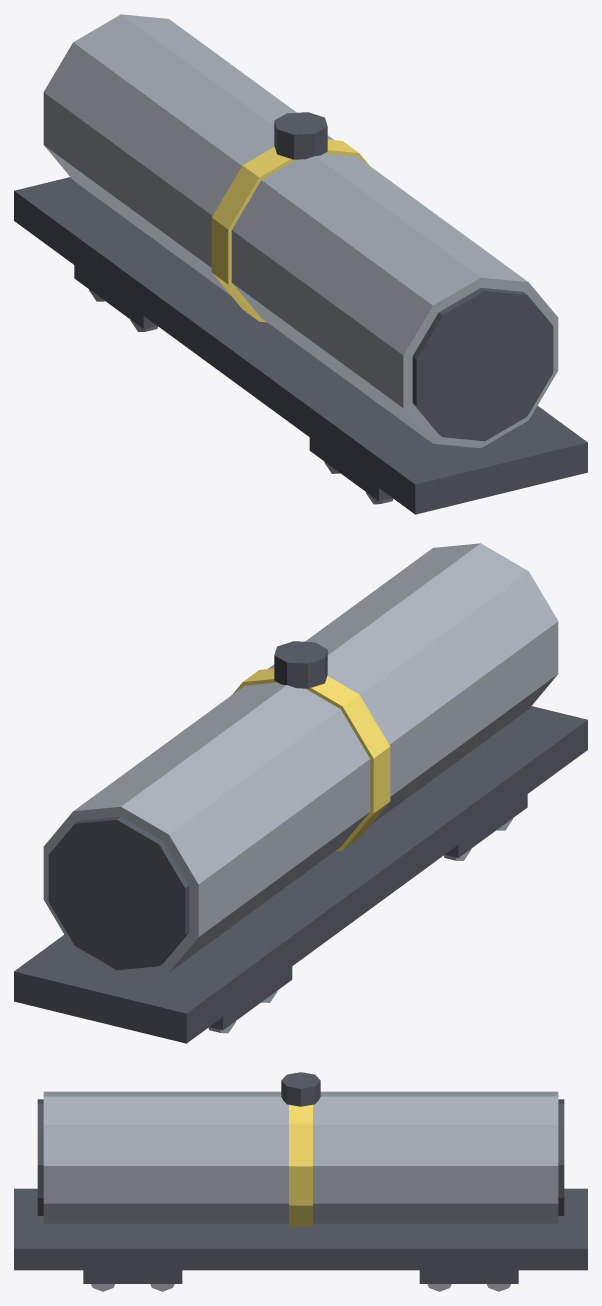
The model's file is vagao_tanque.glb.
The picture shows the model from 3 angles, top to bottom: view 1: azimuth 30°, elevation 25°; view 2: azimuth 150°, elevation 25°; view 3: azimuth 270°, elevation 25°; orthographic projection. The views are drawn at different scales.
Parts seen in each view (by area): view 1: vagao_tanque_corpo, vagao_tanque_truque0, vagao_tanque_truque1; view 2: vagao_tanque_corpo, vagao_tanque_truque1, vagao_tanque_truque0; view 3: vagao_tanque_corpo, vagao_tanque_truque0, vagao_tanque_truque1.
Part boxes in pixels (x1,y1,x2,y2): vagao_tanque_corpo: (14,14,587,514); vagao_tanque_truque0: (309,437,393,504); vagao_tanque_truque1: (74,265,157,331); vagao_tanque_corpo: (14,543,587,1043); vagao_tanque_truque1: (208,966,292,1033); vagao_tanque_truque0: (444,794,527,860); vagao_tanque_corpo: (14,1072,587,1270); vagao_tanque_truque0: (83,1270,182,1291); vagao_tanque_truque1: (419,1270,518,1291).
Bounding box in the file's own units: 0.72 × 1.05 × 2.9.
